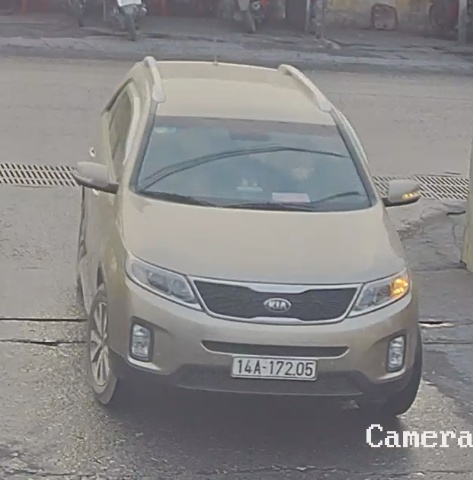vehicle plate: (224, 348, 321, 387)
